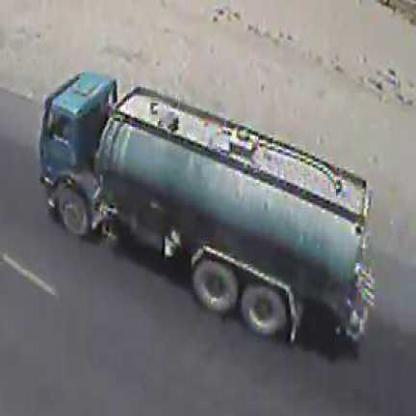truck: (41, 69, 370, 349)
